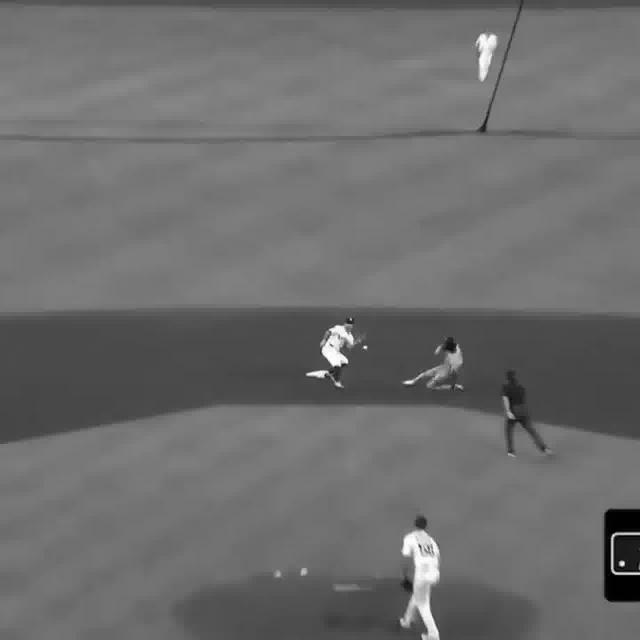base: (306, 369, 330, 380)
baseball: (363, 344, 369, 350)
baseball_glove: (400, 573, 415, 592), (351, 335, 366, 348)
shoe: (332, 377, 346, 390), (504, 450, 519, 459), (402, 379, 418, 387), (540, 447, 552, 454)
